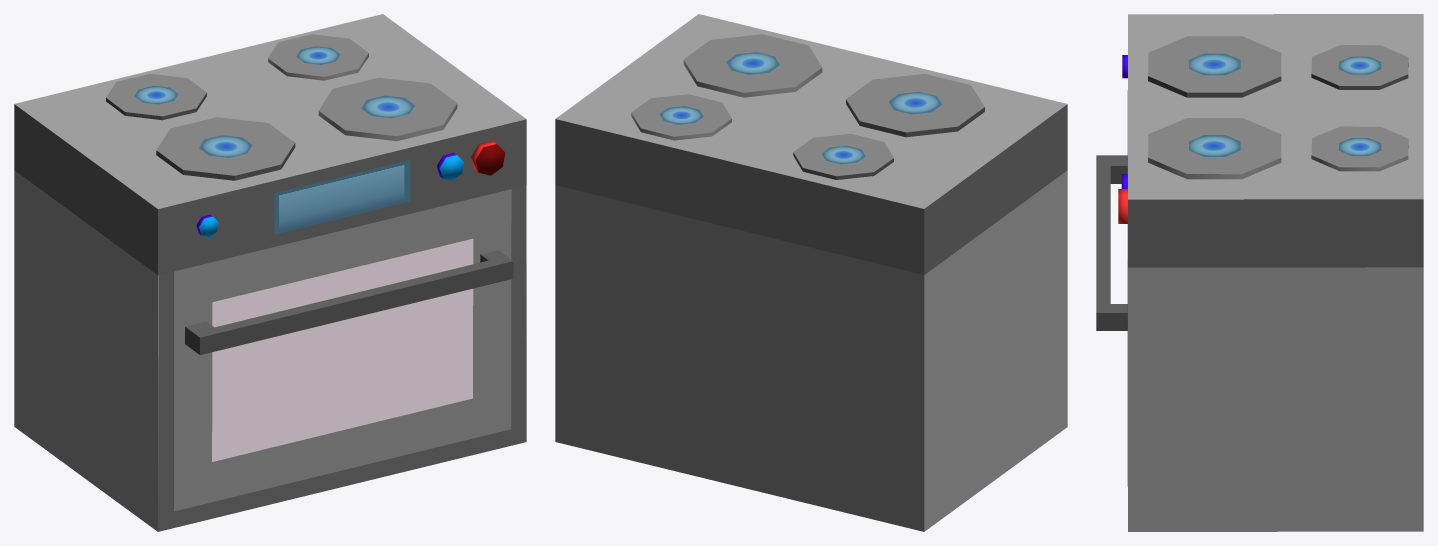
File: Gas_Stove.fbx
The picture shows the model from 3 angles, left to right: view 1: azimuth 30°, elevation 25°; view 2: azimuth 150°, elevation 25°; view 3: azimuth 270°, elevation 25°; orthographic projection. The views are drawn at different scales.
Visible parts, largest first — view 1: Gas_Stove, Gas_Stove01; view 2: Gas_Stove; view 3: Gas_Stove, Gas_Stove01.
Part boxes in pixels (left/top/right/bottom): Gas_Stove: left=14, top=14, right=526, bottom=531; Gas_Stove01: left=173, top=189, right=513, bottom=511; Gas_Stove: left=555, top=14, right=1067, bottom=531; Gas_Stove: left=1118, top=14, right=1423, bottom=531; Gas_Stove01: left=1096, top=90, right=1127, bottom=486.
Size of the model in its own units: 100 by 84.93 by 74.59.
